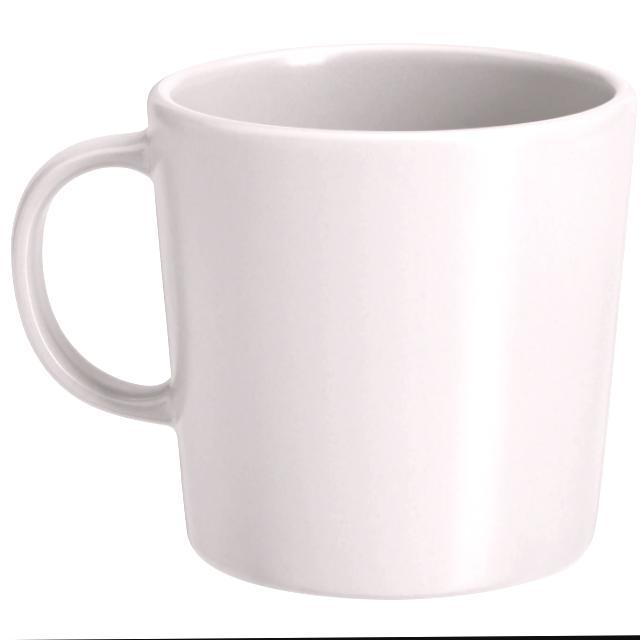cup: (6, 39, 638, 604)
